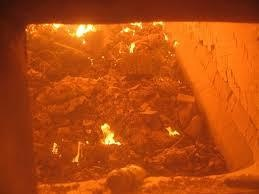fire: (27, 20, 100, 39), (96, 119, 123, 146), (161, 120, 182, 138), (48, 136, 63, 157)
